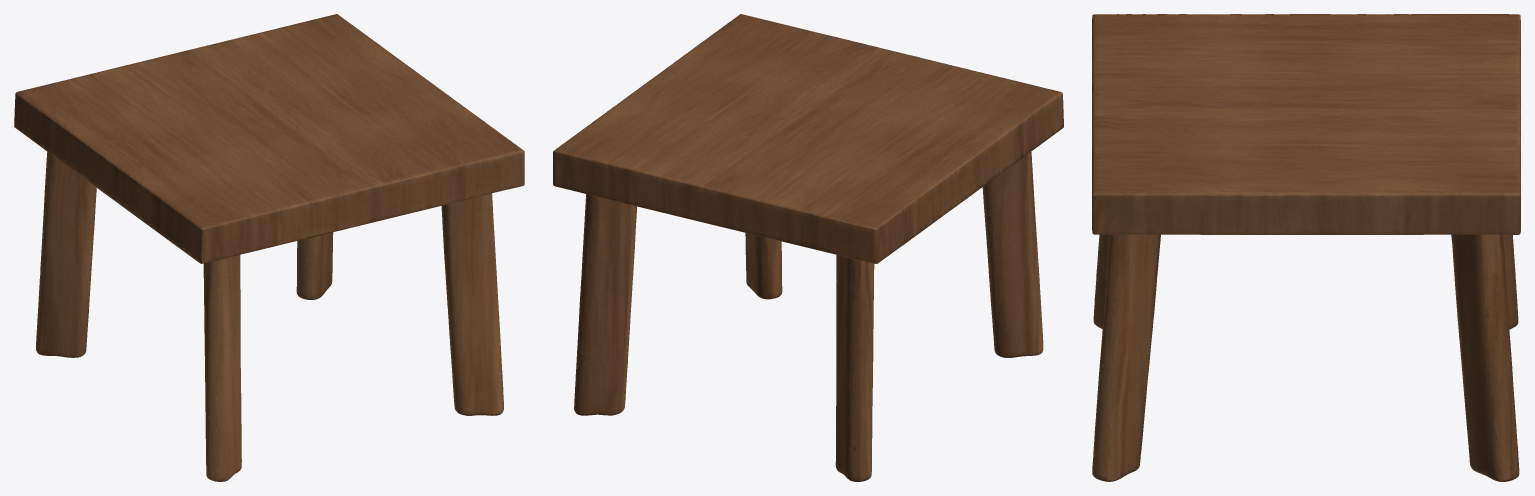
The model's file is item_c02056b5.glb.
3 views of the same model, side by side, from view 1: azimuth 30°, elevation 25°; view 2: azimuth 150°, elevation 25°; view 3: azimuth 270°, elevation 25° (orthographic). The views are drawn at different scales.
Parts seen in each view (by area): view 1: world; view 2: world; view 3: world.
Part boxes in pixels (x1,y1,x2,y2): world: [14, 14, 524, 481]; world: [553, 14, 1063, 481]; world: [1092, 14, 1520, 481].
Bounding box in the file's own units: 1.2 × 0.9243 × 1.2.
1 material, 1 textured.
